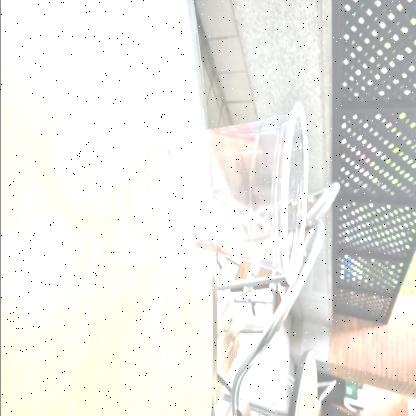Others: (140, 99, 310, 290)
